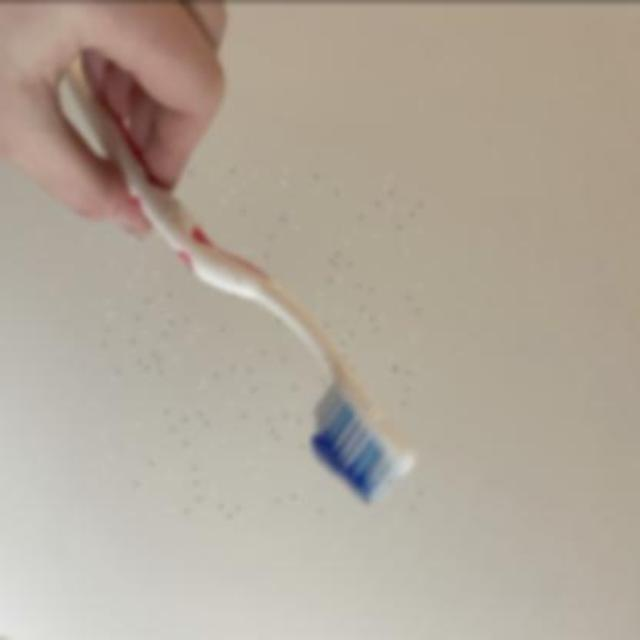toothbrush: (103, 167, 421, 517)
